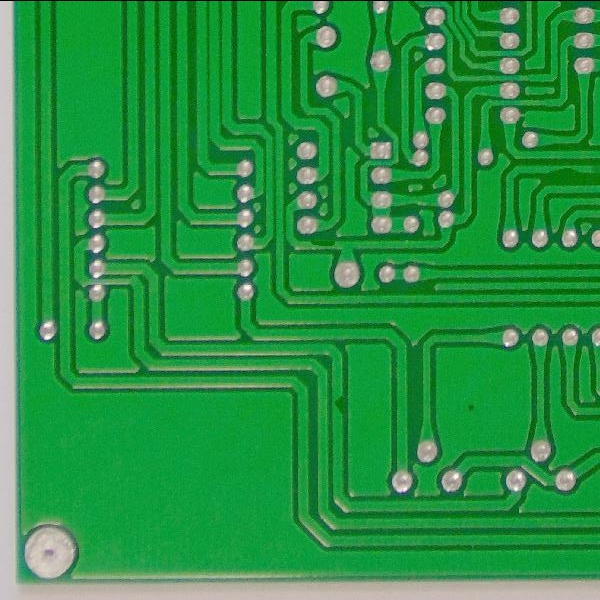mouse_bite: (545, 162, 587, 182), (304, 236, 339, 252), (329, 389, 346, 421)
